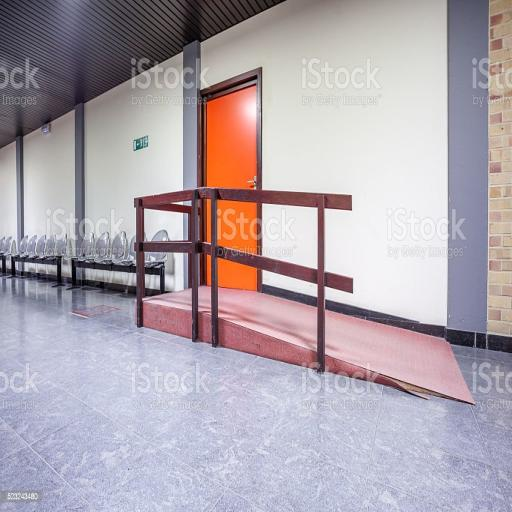ramp: (207, 288, 477, 407)
